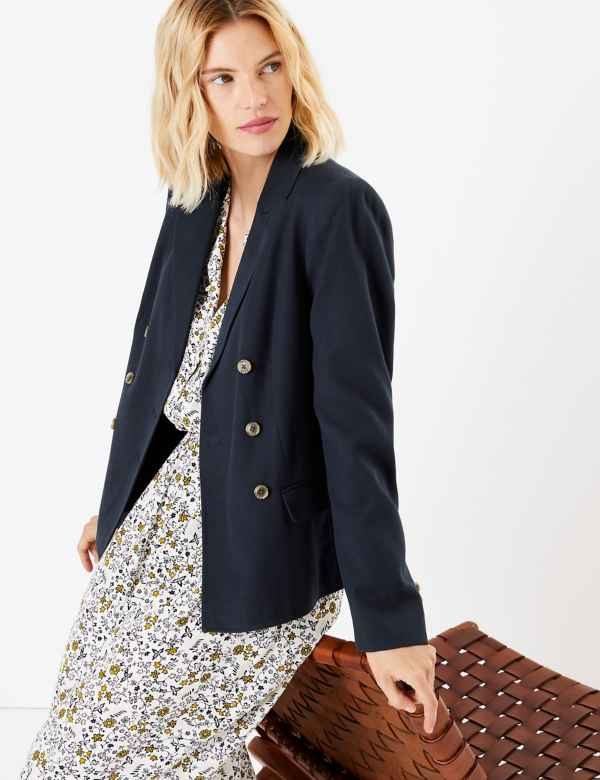F_W_suit jacket: (76, 146, 449, 637)
